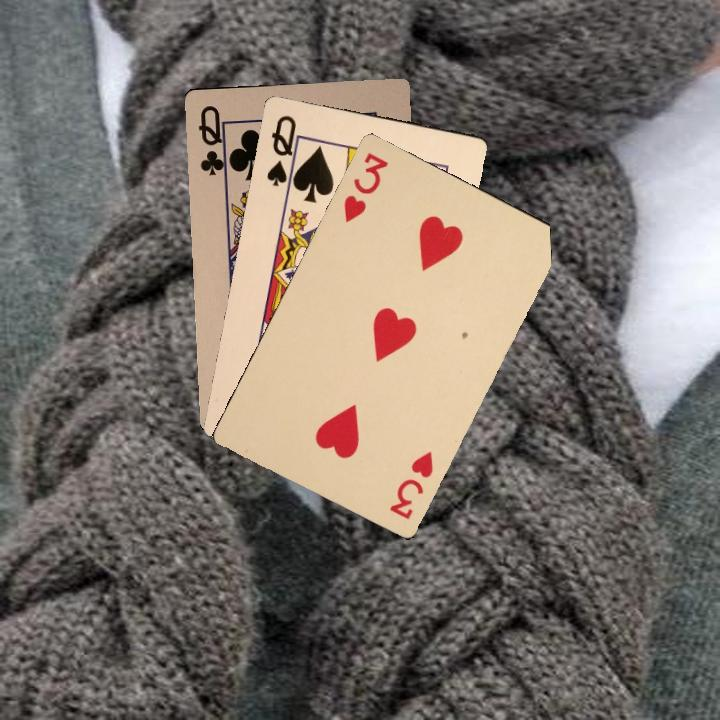3h: (339, 148, 391, 225), (385, 447, 436, 522)
Qc: (194, 102, 230, 179)
Qs: (263, 111, 303, 193)
